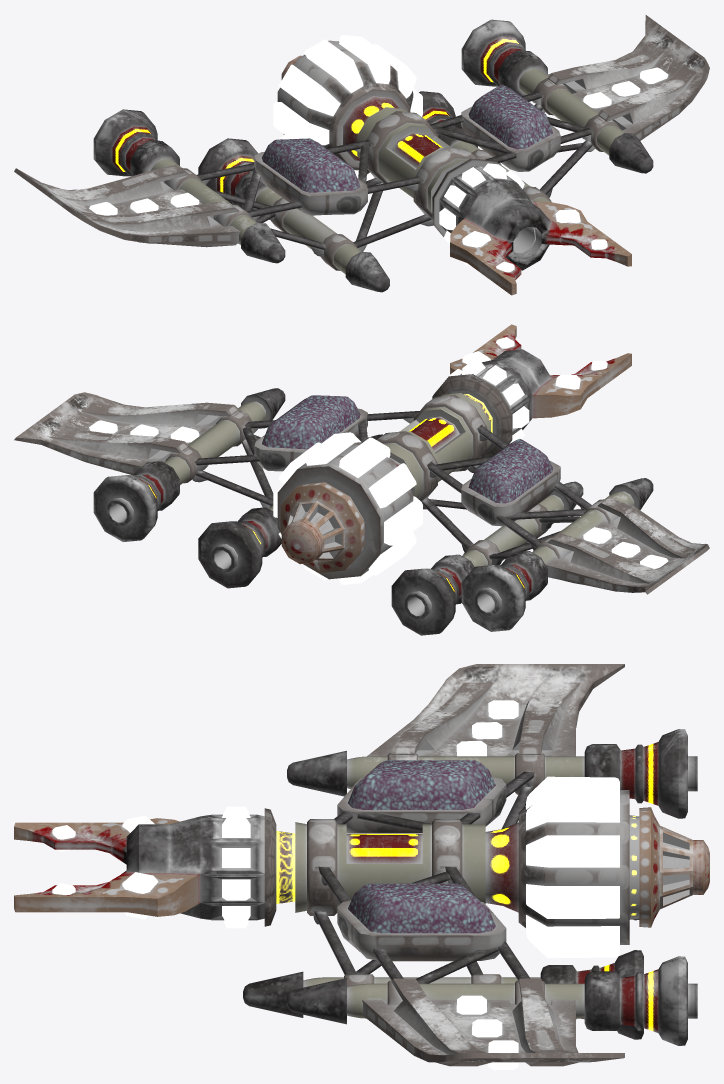
File: Enemy14.fbx
The picture shows the model from 3 angles, top to bottom: view 1: azimuth 30°, elevation 25°; view 2: azimuth 150°, elevation 25°; view 3: azimuth 270°, elevation 25°; orthographic projection. The views are drawn at different scales.
Parts seen in each view (by area): view 1: Enemy14; view 2: Enemy14; view 3: Enemy14.
Boxes of the visible parts, left/top/right/bottom form: Enemy14: left=14, top=15, right=709, bottom=295; Enemy14: left=14, top=324, right=709, bottom=635; Enemy14: left=14, top=664, right=709, bottom=1069.
Bounding box in the file's own units: 383 × 86.74 × 288.
